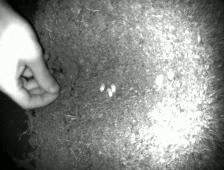corn: (152, 72, 166, 88), (97, 81, 107, 94), (108, 82, 118, 94), (105, 85, 114, 98)
